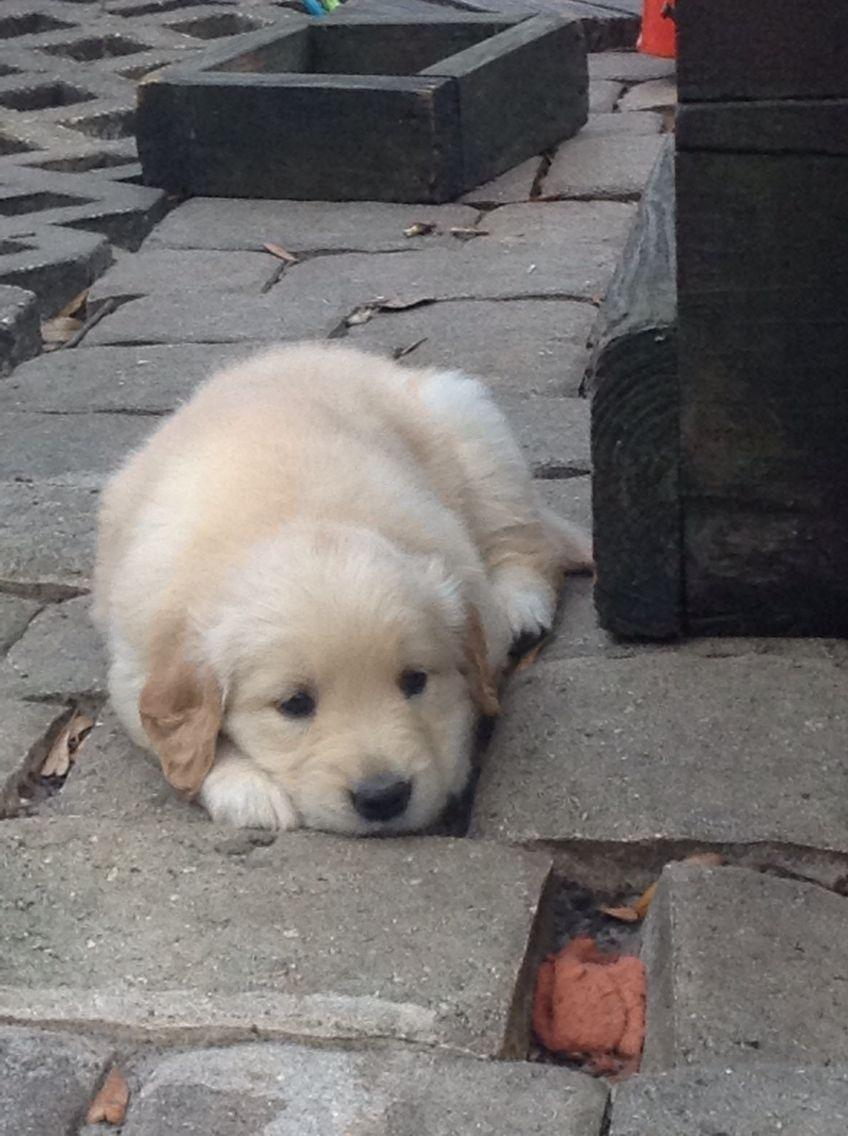puppy-dog: (91, 340, 591, 840)
